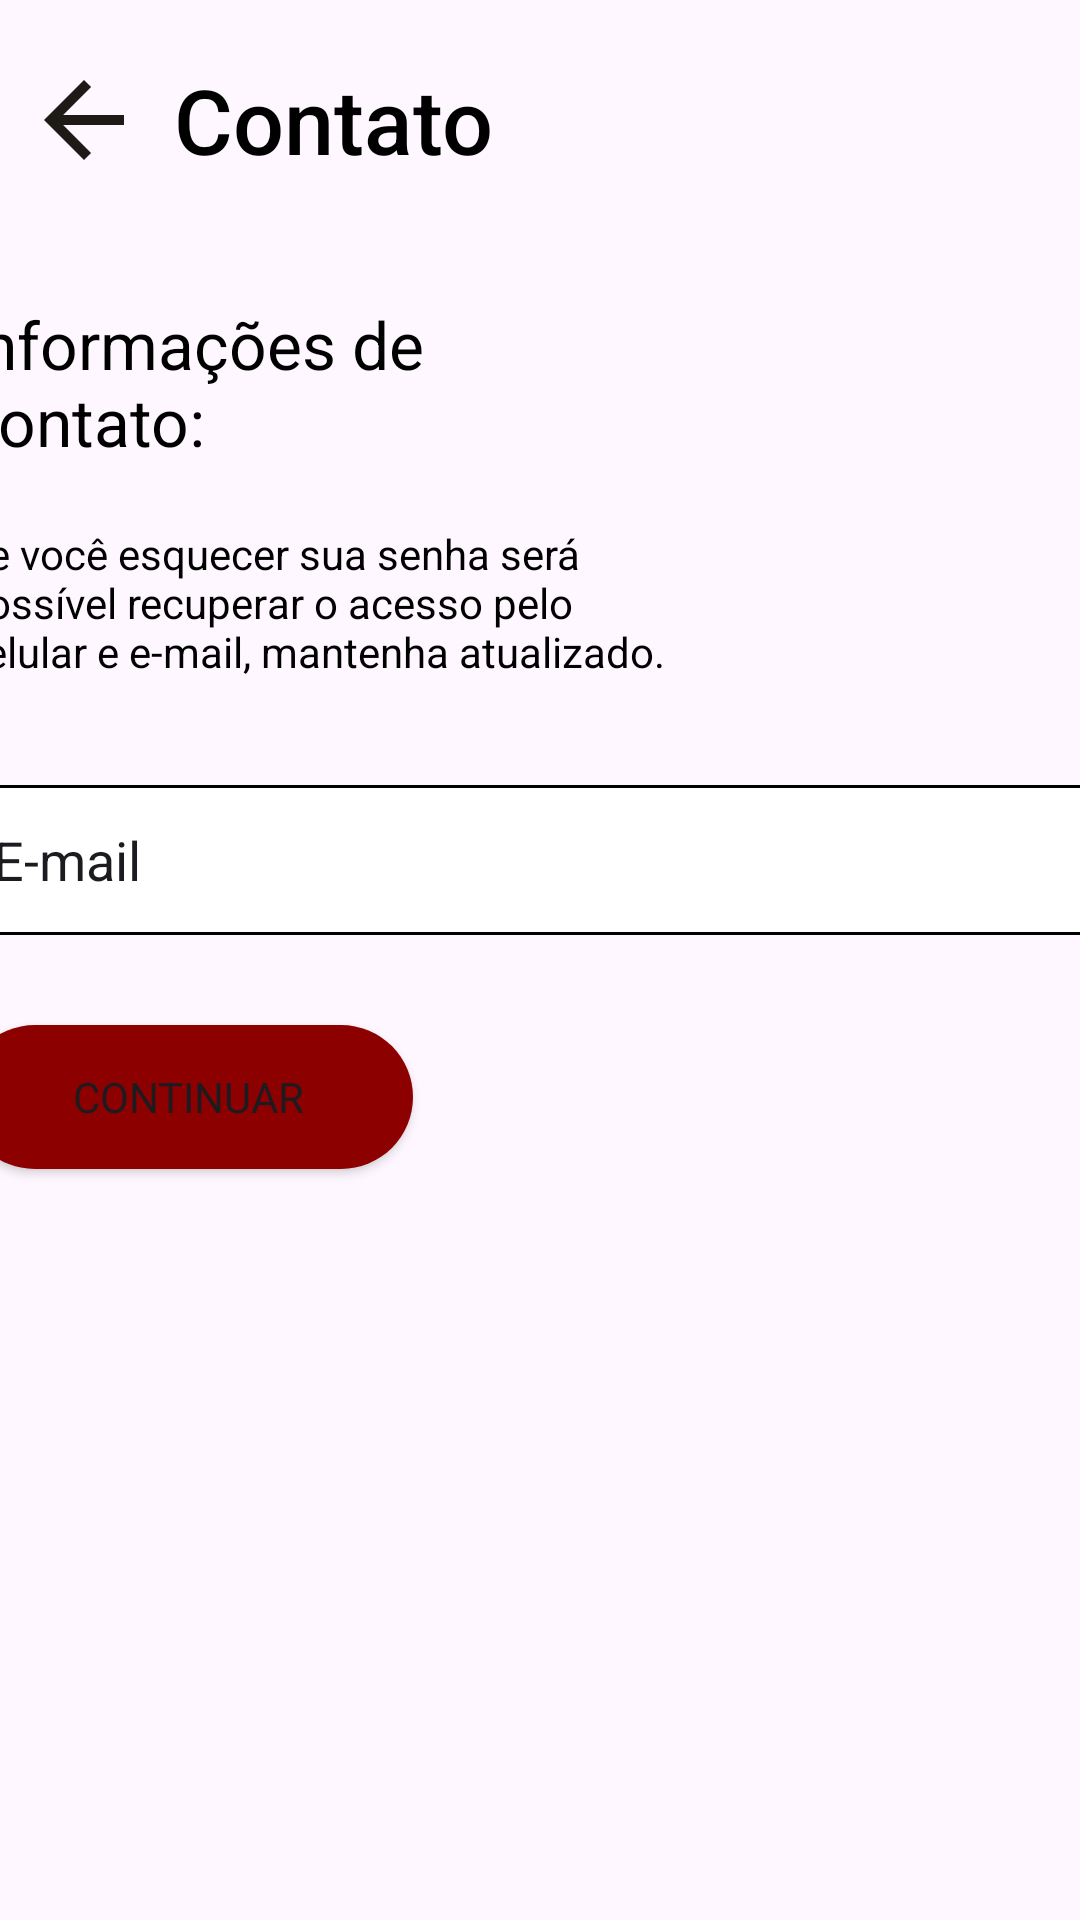

Locate icon controls on the screen. Image size 1080w x 1920h, boxes as (x1, y1, x2, y2).
seta preta voltar: (44, 80, 124, 160)
